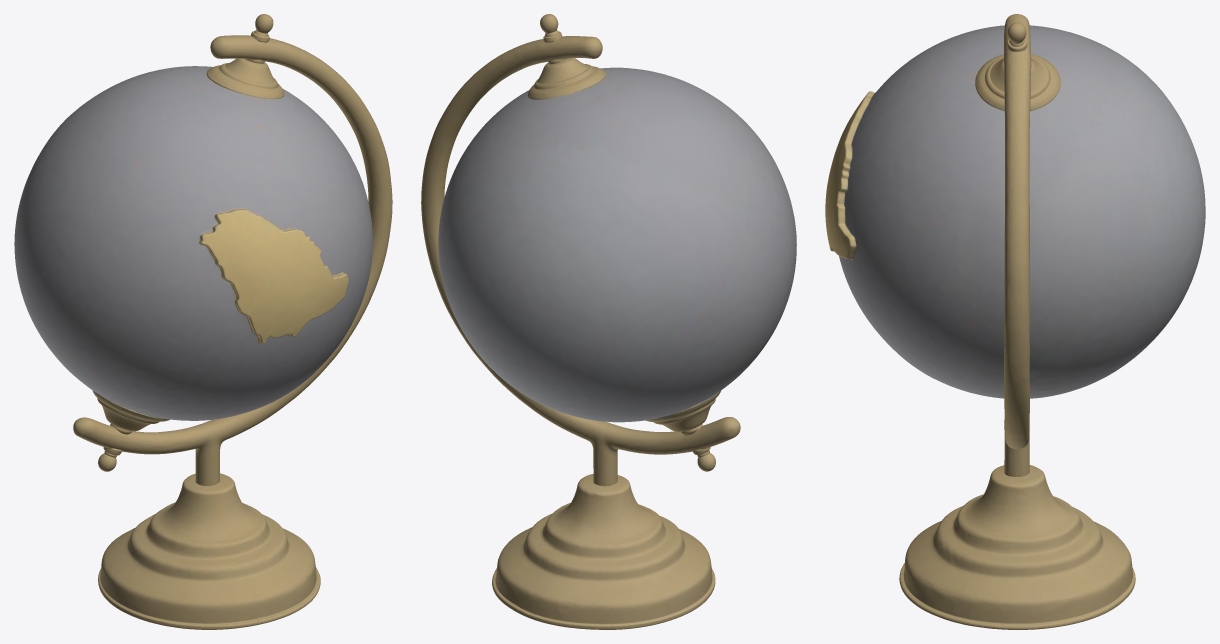
File: globe-mehwar-alkawn.glb
The picture shows the model from 3 angles, left to right: view 1: azimuth 30°, elevation 25°; view 2: azimuth 150°, elevation 25°; view 3: azimuth 270°, elevation 25°; orthographic projection. The views are drawn at different scales.
Size of the model in its own units: 1.26 by 1.9 by 1.12.
1 material, 1 textured.
